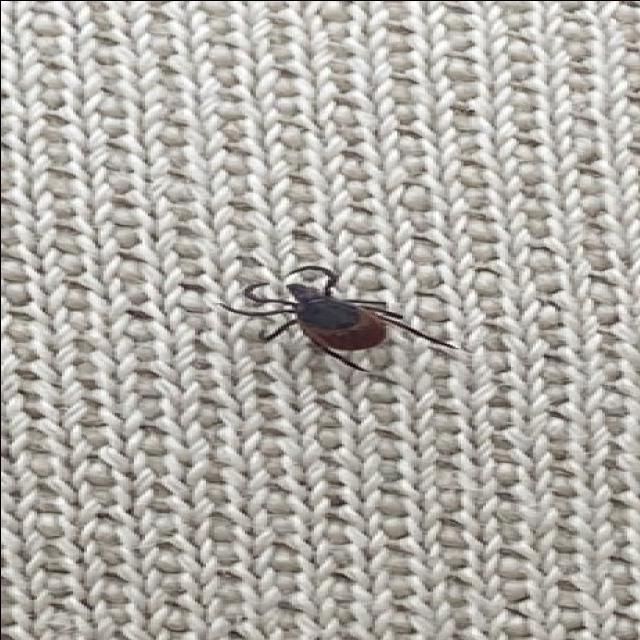Ixodes Ricinus-F: (216, 265, 457, 370)
